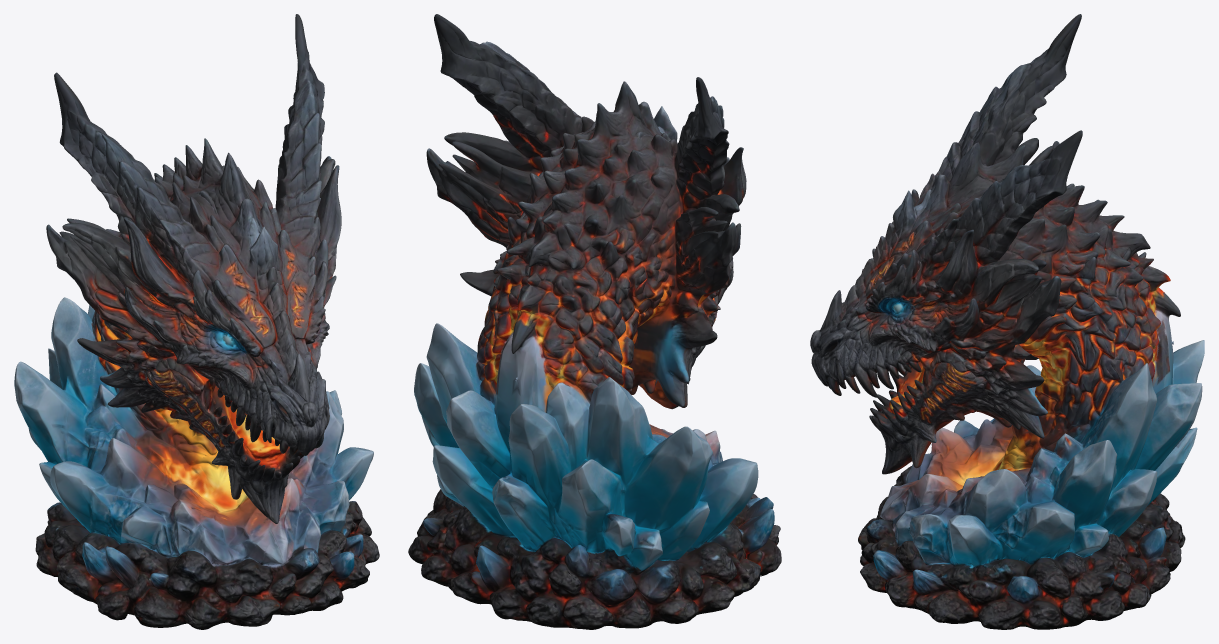
File: dragon-head.glb
3 renders of one model, left to right at view 1: azimuth 30°, elevation 25°; view 2: azimuth 150°, elevation 25°; view 3: azimuth 270°, elevation 25°, orthographic. The views are drawn at different scales.
Parts seen in each view (by area): view 1: tripo_node_c55b769f-1e10-4c03-b2b4-35b5d87cc160; view 2: tripo_node_c55b769f-1e10-4c03-b2b4-35b5d87cc160; view 3: tripo_node_c55b769f-1e10-4c03-b2b4-35b5d87cc160.
Boxes of the visible parts, x1,y1,x2,y2 form: tripo_node_c55b769f-1e10-4c03-b2b4-35b5d87cc160: (14, 14, 379, 629); tripo_node_c55b769f-1e10-4c03-b2b4-35b5d87cc160: (408, 14, 781, 629); tripo_node_c55b769f-1e10-4c03-b2b4-35b5d87cc160: (810, 14, 1204, 629).
Bounding box in the file's own units: 0.6111 × 0.9809 × 0.7148.
Materials: 1 (1 with a texture image).
